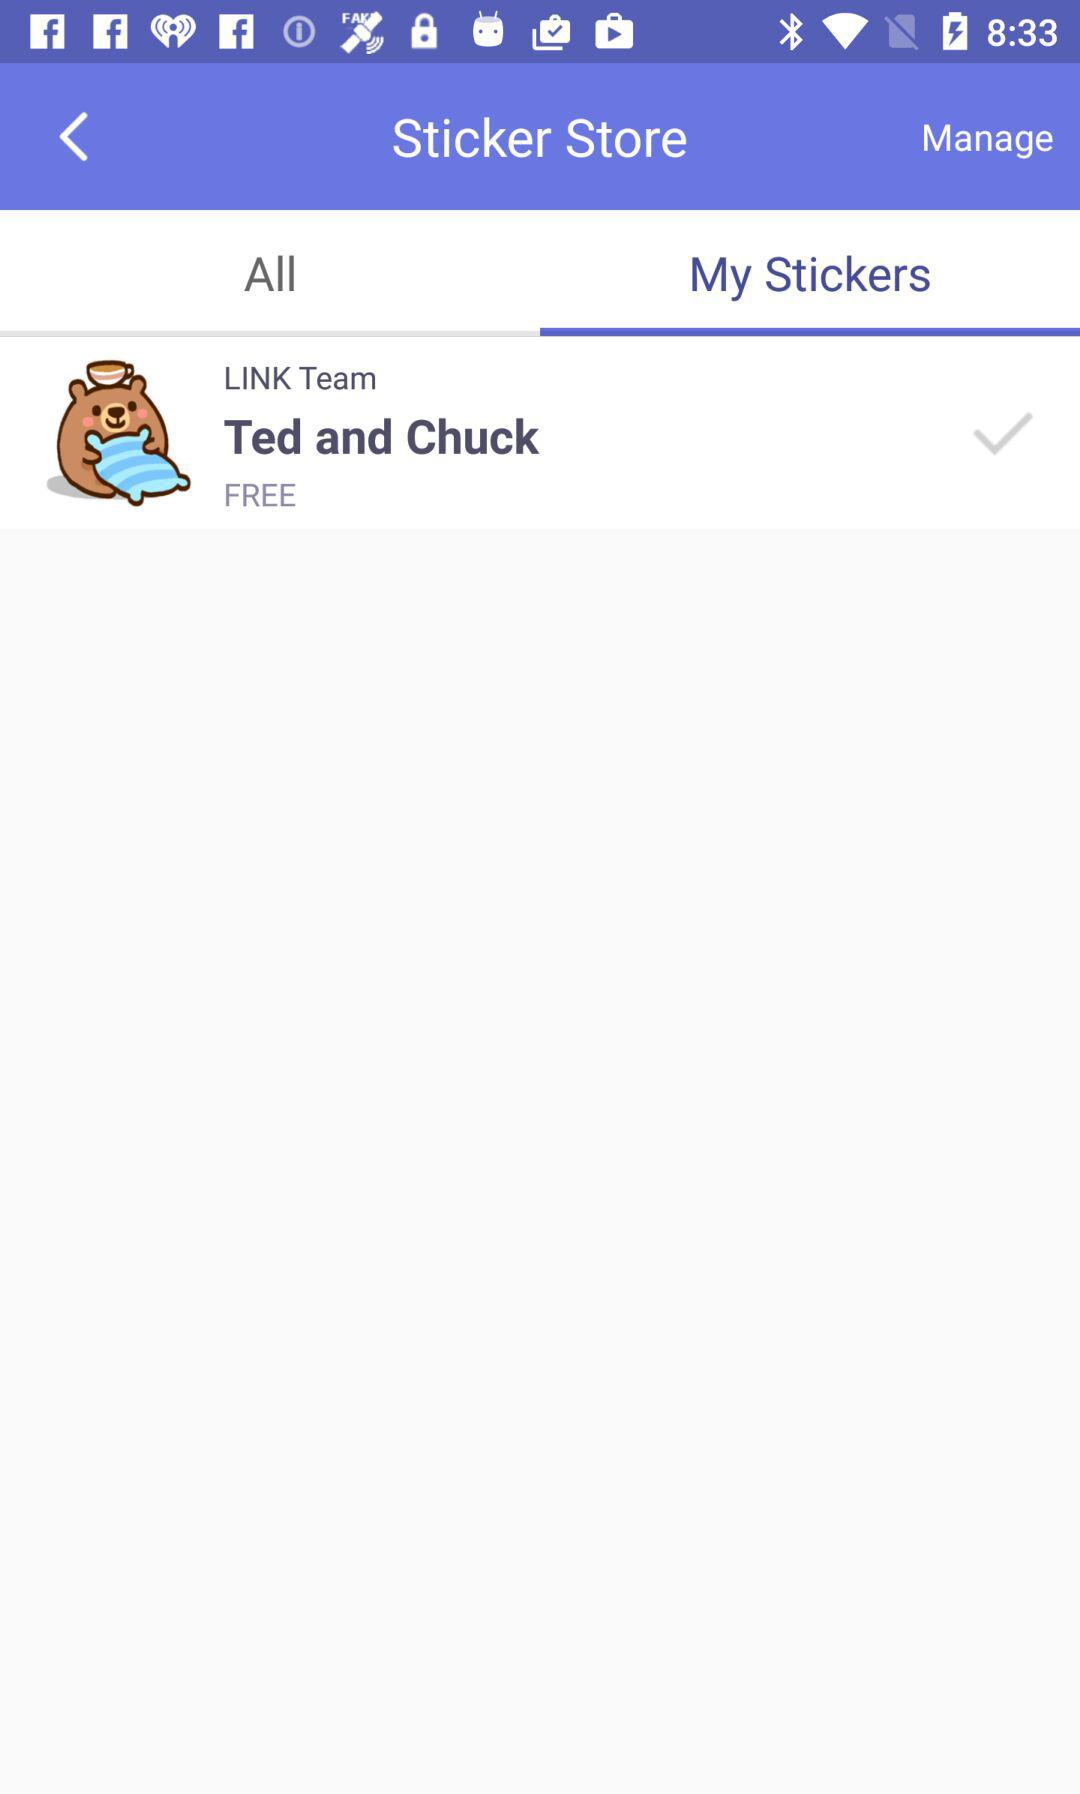Icon: (971, 410, 1035, 457), (58, 111, 91, 164)
Image: (46, 359, 193, 509)
Multi_Tab: (1, 211, 1080, 340)
Text: (223, 416, 542, 457), (392, 117, 689, 160), (692, 254, 931, 302), (922, 123, 1054, 161), (225, 366, 377, 392), (243, 255, 297, 293), (225, 482, 299, 509)
Toolbar: (1, 63, 1080, 210)
UpperTaskBar: (1, 1, 1080, 64)
